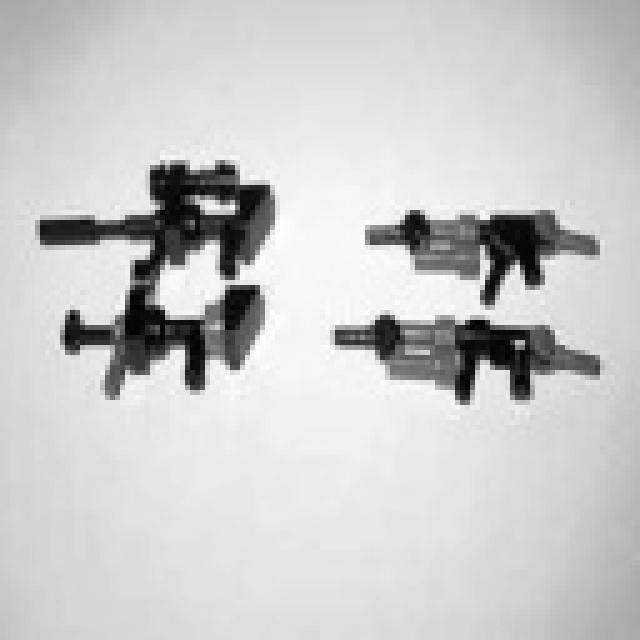Rifle: (326, 270, 640, 451), (338, 129, 621, 316), (0, 141, 308, 302), (45, 264, 303, 430)
